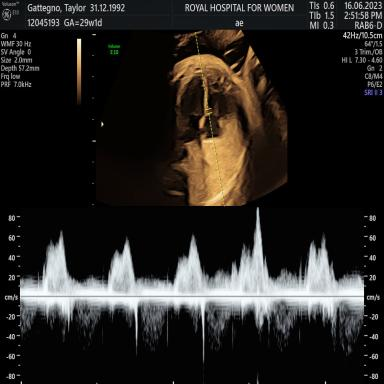Ultrasound-Waves: (27, 210, 362, 384)
